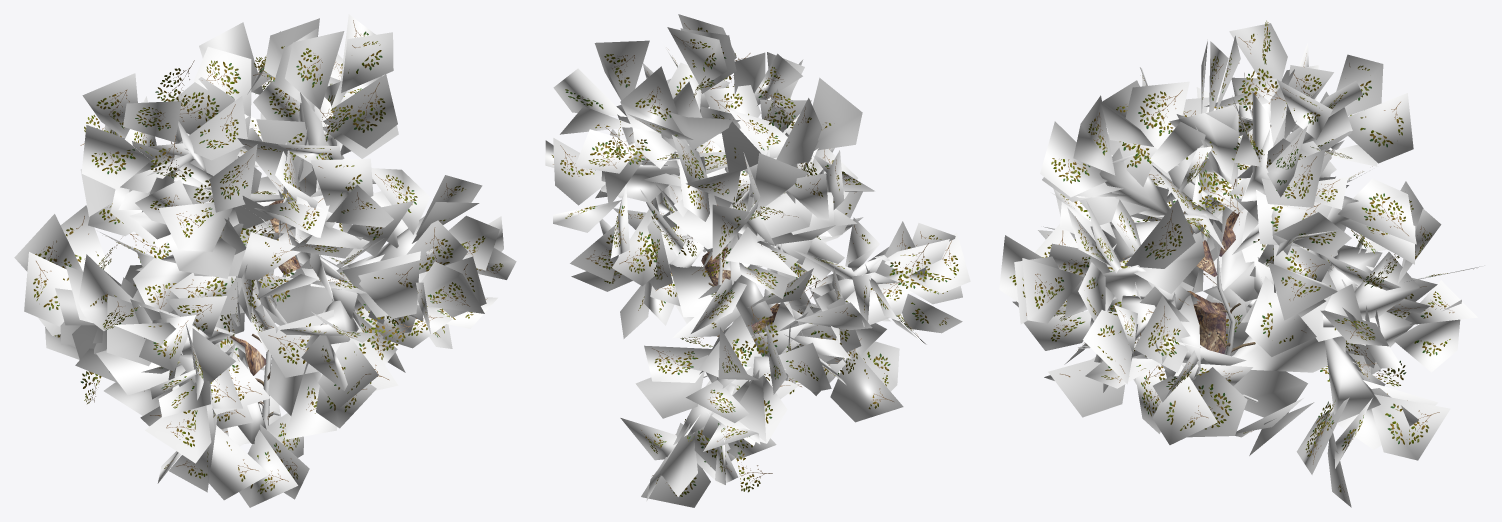
Rendered from barberry2.glb.
3 views of the same model, side by side, from view 1: azimuth 30°, elevation 25°; view 2: azimuth 150°, elevation 25°; view 3: azimuth 270°, elevation 25° (orthographic). The views are drawn at different scales.
Visible parts, largest first — view 1: barberry2; view 2: barberry2; view 3: barberry2.
Boxes of the visible parts, x1,y1,x2,y2 form: barberry2: (14,14,516,507); barberry2: (545,14,970,507); barberry2: (999,20,1484,507).
Bounding box in the file's own units: 1.6 × 1.83 × 1.72.
Materials: 3 (2 with a texture image).
